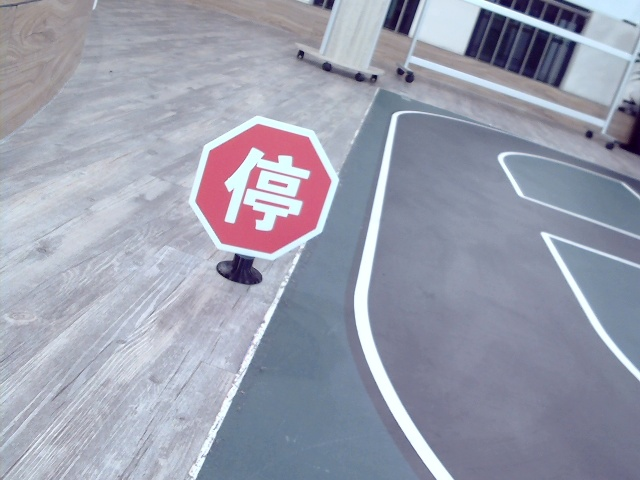stop: (223, 145, 307, 231)
